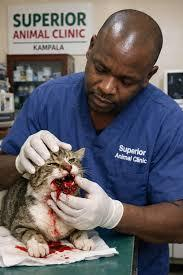bleeding: (44, 168, 85, 204)
